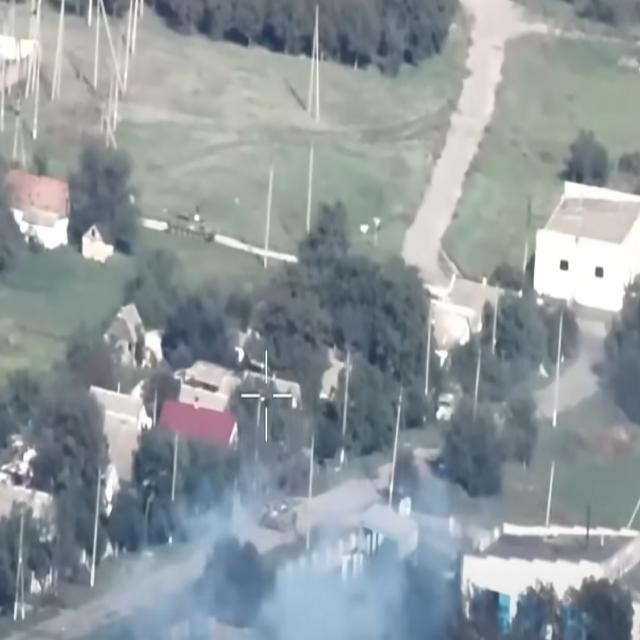AIFV: (166, 209, 218, 248)
MBT: (258, 496, 300, 535)
